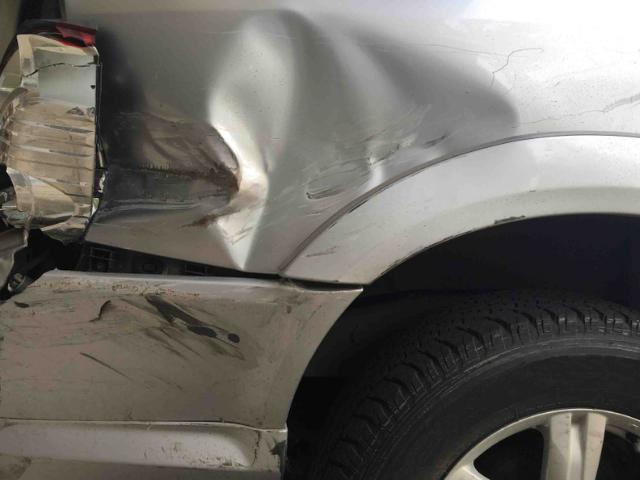Bumper: (0, 236, 341, 480)
Fender: (93, 0, 640, 231)
Light: (0, 3, 90, 233)
